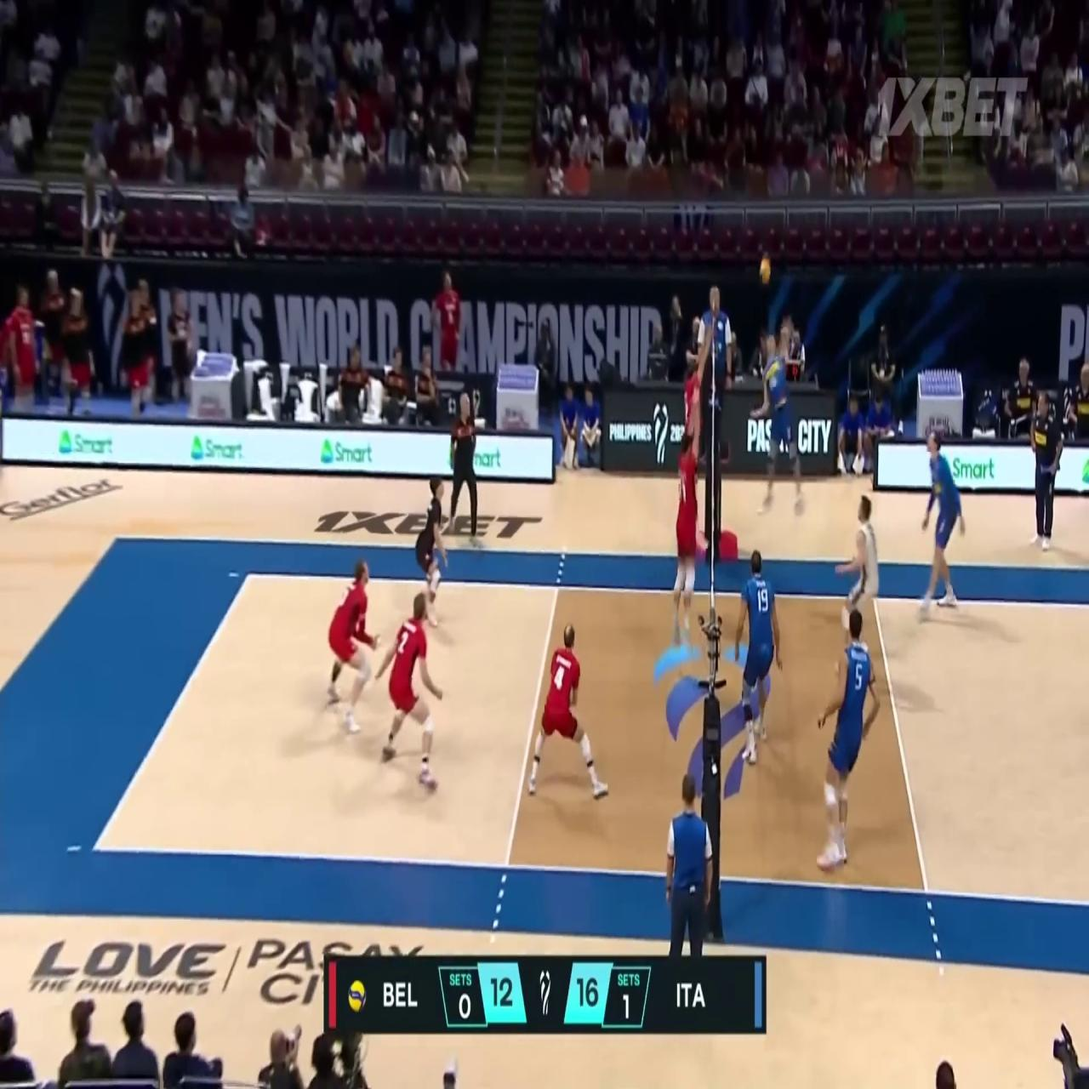ball: (759, 256, 771, 283)
